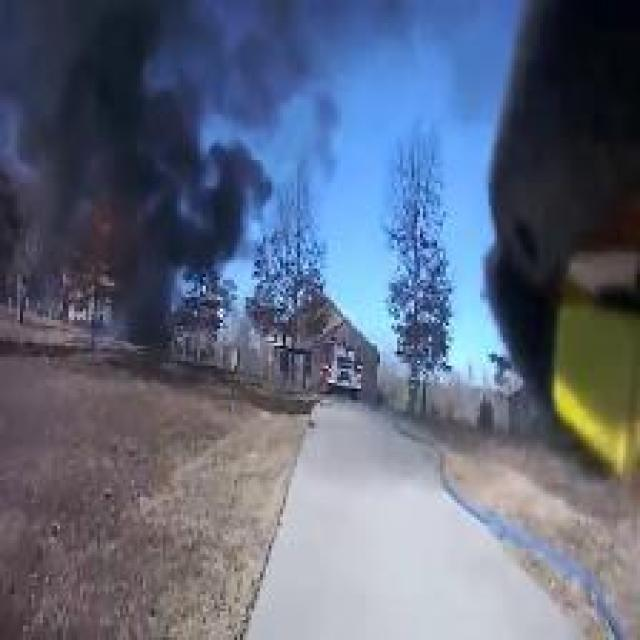other: (532, 284, 634, 492)
smoke: (3, 3, 264, 355)
